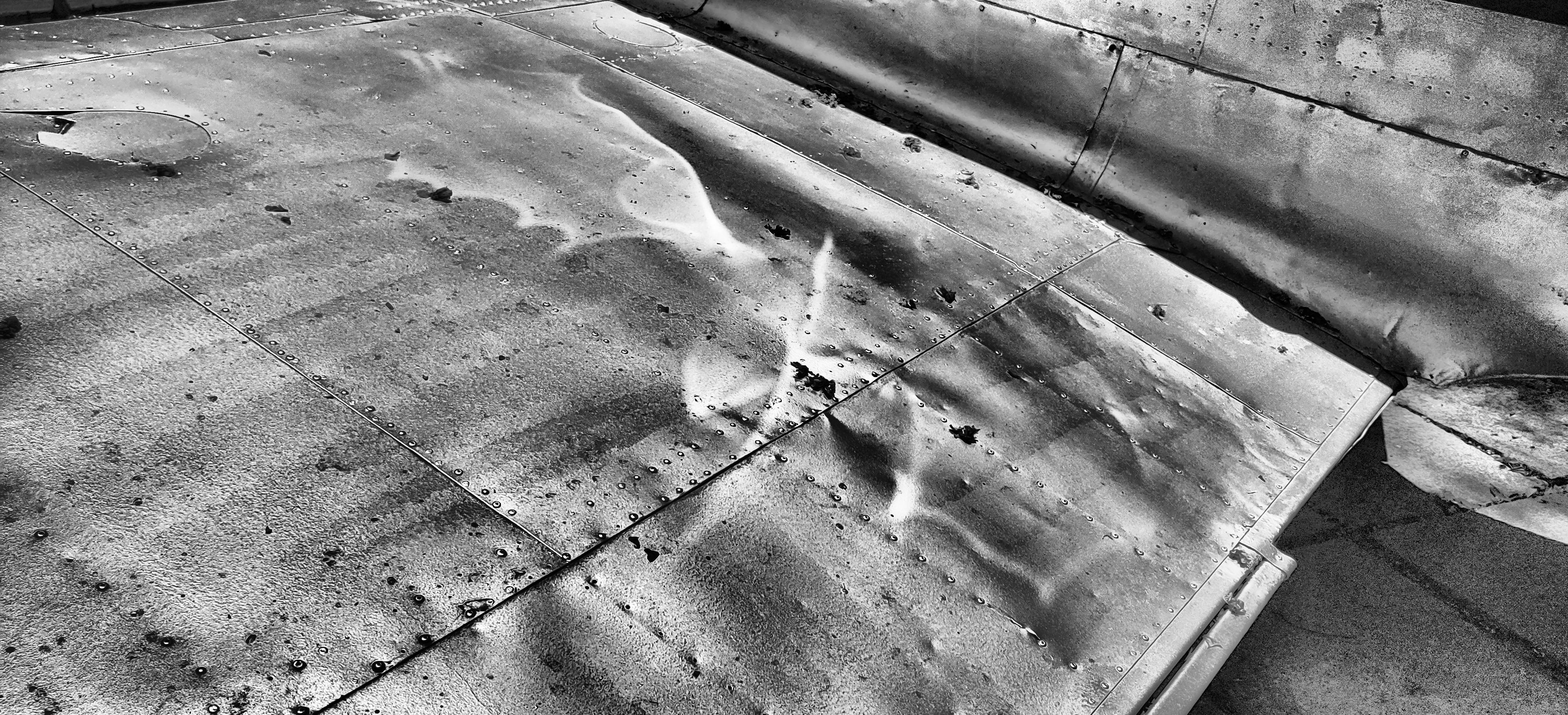crack: (1008, 618, 1041, 641)
dent: (740, 233, 829, 456), (942, 521, 1045, 597), (882, 468, 912, 528), (1268, 163, 1302, 211), (1424, 353, 1468, 386), (1097, 398, 1131, 436), (1506, 164, 1550, 188), (821, 411, 848, 435), (1240, 403, 1269, 423), (1276, 447, 1305, 465), (1240, 442, 1264, 461), (1384, 316, 1402, 339), (1072, 314, 1093, 332), (911, 391, 930, 407), (1469, 363, 1489, 378), (1189, 211, 1200, 219)
missing-head: (1413, 368, 1421, 376), (1109, 43, 1116, 52), (1400, 365, 1407, 372), (87, 44, 95, 49), (625, 604, 631, 610), (1429, 373, 1434, 380), (727, 685, 734, 690), (86, 106, 94, 110), (1532, 179, 1537, 185), (592, 580, 598, 585), (658, 631, 664, 636), (400, 650, 407, 654), (516, 540, 521, 545), (393, 608, 398, 613), (437, 584, 442, 589), (458, 572, 463, 577), (1534, 174, 1540, 178), (692, 659, 698, 663), (60, 107, 66, 111), (647, 505, 651, 510), (604, 492, 608, 497), (528, 575, 532, 580), (321, 172, 326, 176), (163, 110, 169, 113), (704, 438, 708, 442), (718, 464, 722, 468), (682, 388, 686, 392), (105, 188, 109, 192), (200, 167, 204, 171), (617, 524, 620, 529), (6, 108, 11, 111), (300, 161, 305, 164), (547, 564, 550, 568), (79, 194, 83, 197), (243, 158, 247, 161), (33, 108, 39, 110), (802, 416, 805, 418)
